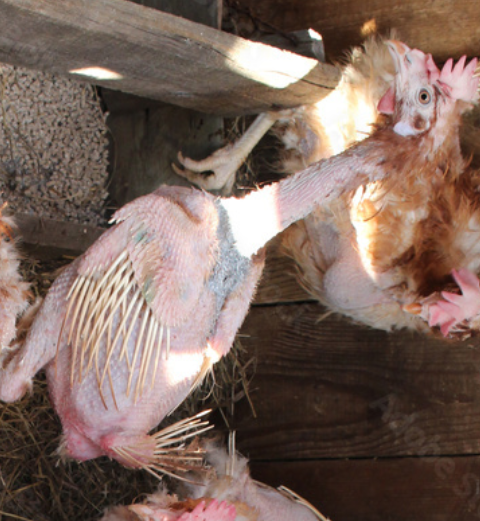Unhealthy: (19, 31, 452, 485)
